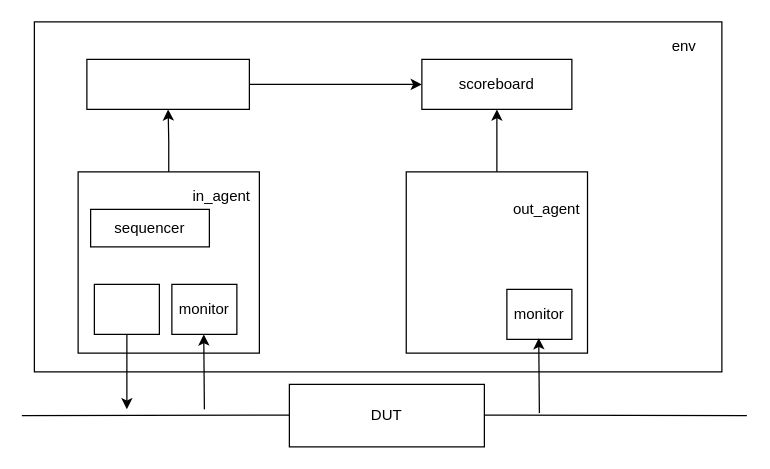
The diagram is 770 pixels wide and 469 high, and some of its shapes have lost their labels. Each missing label, with the centre of its shape:
"driver" goes at (126,308).
"reference model" goes at (167,83).
